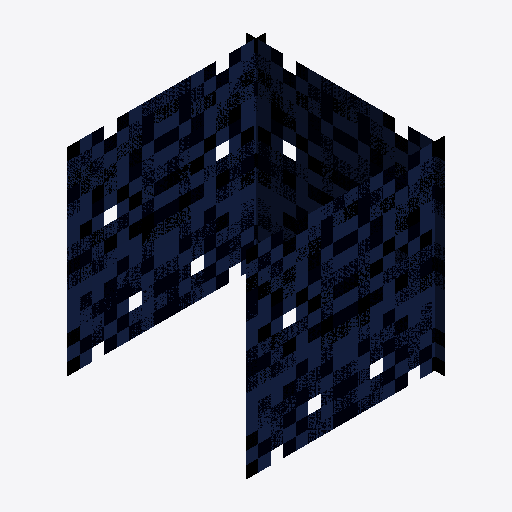
A Minecraft block model of 3 cuboids, rendered isometrically (azimuth 45°, elevation 35.3°) with the resource pack's own textures.
Parts seen in each view (by area): element 2, element 3, element 1.
Boxes of the visible parts, x1=… form: element 2: x1=246, y1=136, x2=444, y2=478; element 3: x1=67, y1=33, x2=265, y2=375; element 1: x1=246, y1=33, x2=444, y2=375.
Size of the model in its own units: 16 by 16 by 16.